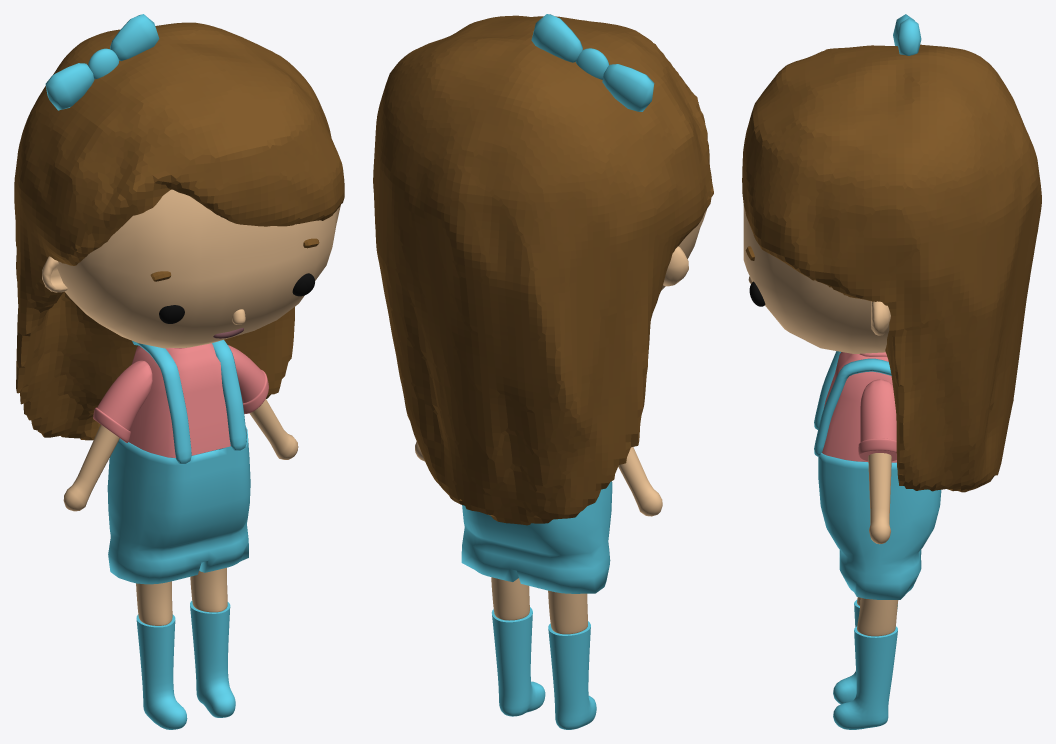
File: amie.fbx
3 views of the same model, side by side, from view 1: azimuth 30°, elevation 25°; view 2: azimuth 150°, elevation 25°; view 3: azimuth 270°, elevation 25° (orthographic). The views are drawn at different scales.
Parts seen in each view (by area): view 1: hair, head, jumper, socks, shirt, sleeves, arms, upperlegs, Vert.001, Vert.002, Vert.005, Vert.009 (+2 smaller); view 2: hair, jumper, socks, upperlegs, Vert.005, Vert.009, arms, Sphere, ears; view 3: hair, jumper, head, socks, shirt, sleeves, arms, Vert.002, upperlegs, Vert.009, ears, Vert.001.
Part boxes in pixels (left/top/right/bottom): hair: left=14, top=22, right=344, bottom=440; head: left=56, top=189, right=340, bottom=348; jumper: left=107, top=426, right=250, bottom=584; socks: left=136, top=600, right=235, bottom=729; shirt: left=128, top=343, right=246, bottom=457; sleeves: left=93, top=345, right=268, bottom=442; arms: left=63, top=399, right=298, bottom=511; upperlegs: left=136, top=567, right=227, bottom=625; Vert.001: left=132, top=341, right=191, bottom=464; Vert.002: left=212, top=340, right=246, bottom=450; Vert.005: left=45, top=63, right=94, bottom=110; Vert.009: left=110, top=14, right=159, bottom=61; hair: left=373, top=15, right=713, bottom=525; jumper: left=461, top=481, right=612, bottom=593; socks: left=491, top=607, right=596, bottom=729; upperlegs: left=491, top=577, right=587, bottom=634; Vert.005: left=602, top=64, right=654, bottom=111; Vert.009: left=531, top=14, right=582, bottom=62; arms: left=415, top=441, right=662, bottom=516; Sphere: left=576, top=48, right=608, bottom=79; ears: left=663, top=246, right=688, bottom=286; hair: left=742, top=44, right=1041, bottom=492; jumper: left=818, top=427, right=941, bottom=599; head: left=743, top=206, right=889, bottom=353; socks: left=833, top=600, right=897, bottom=729; shirt: left=822, top=352, right=896, bottom=462; sleeves: left=858, top=379, right=896, bottom=461; arms: left=868, top=453, right=891, bottom=544; Vert.002: left=814, top=358, right=891, bottom=456; upperlegs: left=857, top=597, right=898, bottom=636; Vert.009: left=896, top=17, right=921, bottom=55; ears: left=871, top=301, right=890, bottom=335; Vert.001: left=814, top=351, right=840, bottom=429.
Bounding box in the file's own units: 172 × 395 × 158.
